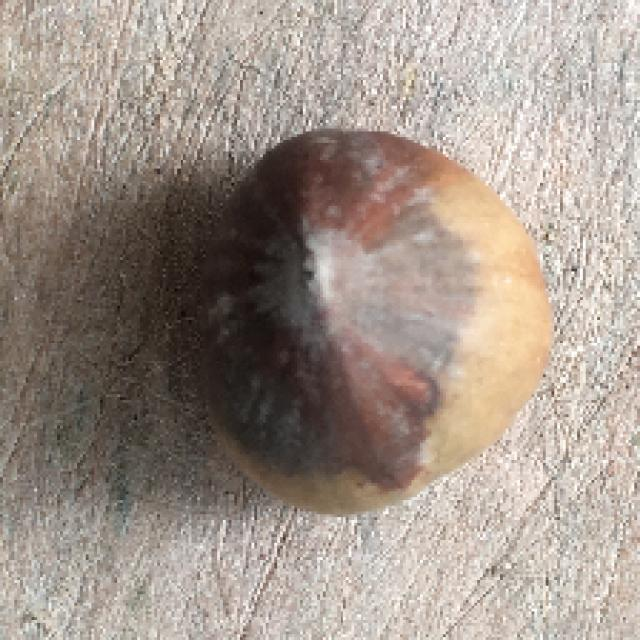damagedHazelnut: (198, 126, 558, 508)
